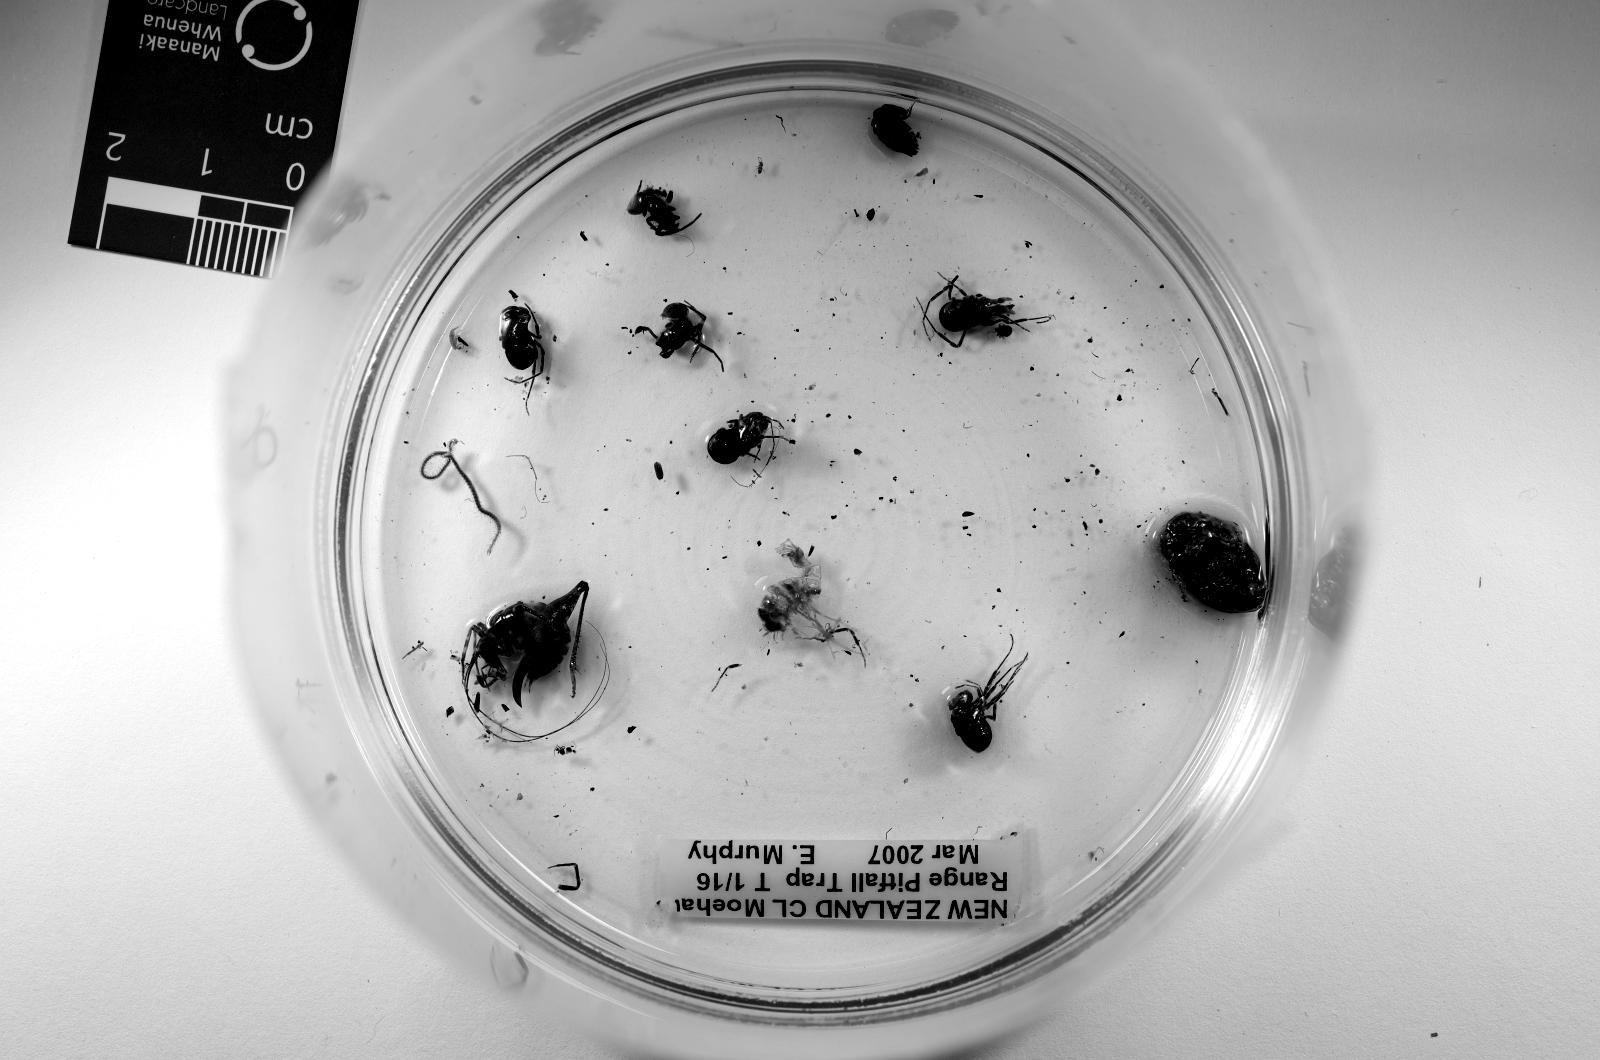araneae: (653, 302, 715, 357), (628, 183, 691, 237)
chilopoda: (419, 441, 503, 552)
collembola: (451, 327, 468, 351)
isopoda: (872, 103, 919, 155)
opiliones: (947, 652, 1028, 751), (928, 277, 1028, 332), (500, 304, 544, 401), (706, 413, 772, 466)
orthoptera: (459, 581, 588, 705)
